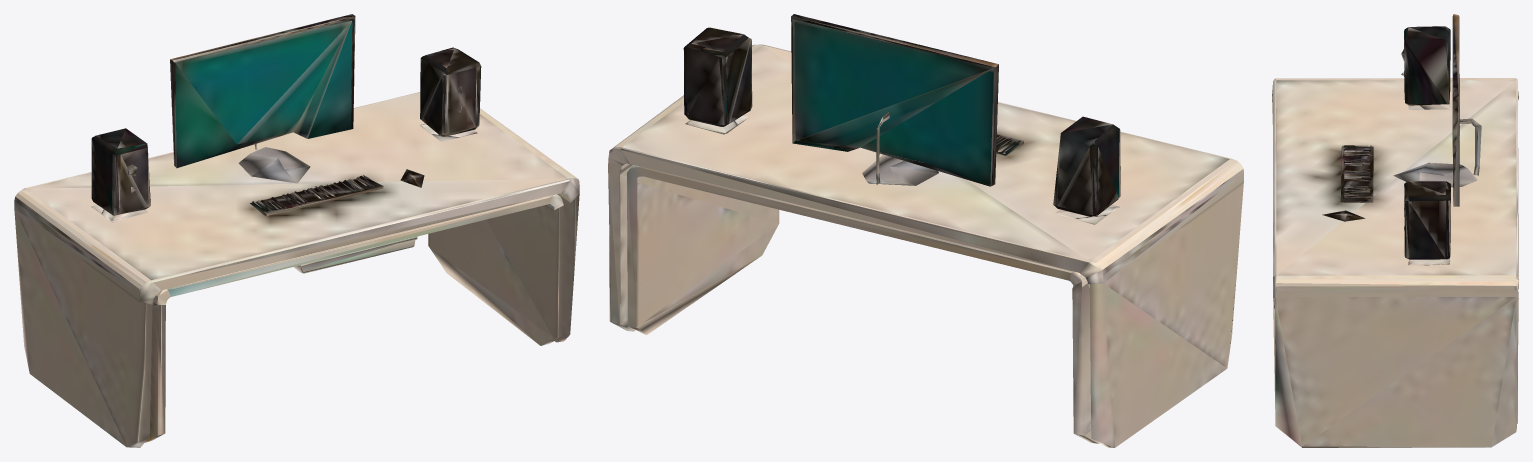
File: desk.lod2.glb
3 renders of one model, left to right at view 1: azimuth 30°, elevation 25°; view 2: azimuth 150°, elevation 25°; view 3: azimuth 270°, elevation 25°, orthographic. The views are drawn at different scales.
Bounding box in the file's own units: 2 × 1.3 × 1.01.
Materials: 1 (1 with a texture image).
